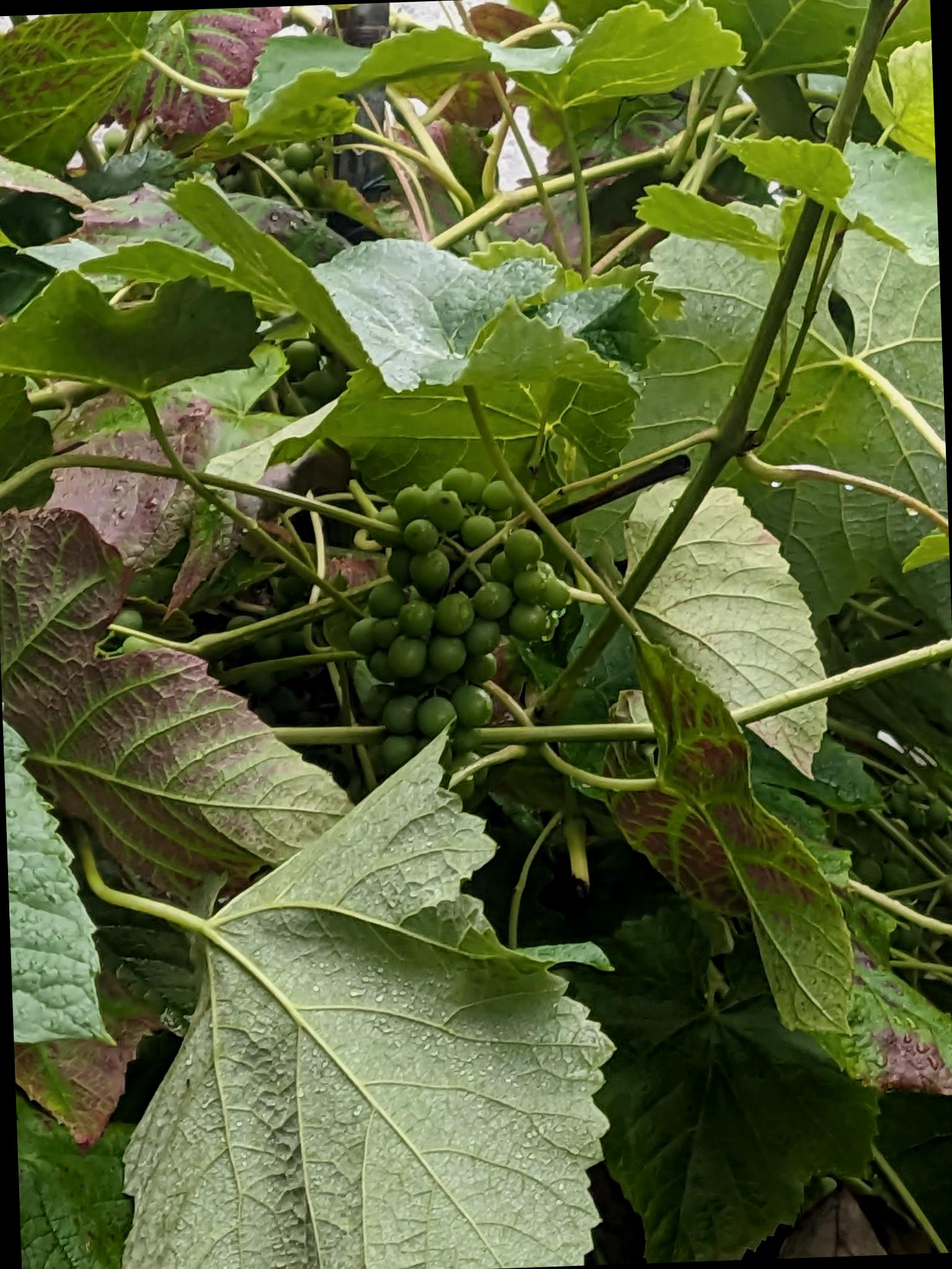Grape Unripe: (342, 465, 574, 801), (108, 556, 320, 732), (847, 776, 952, 951), (265, 140, 329, 213), (287, 337, 340, 407)
